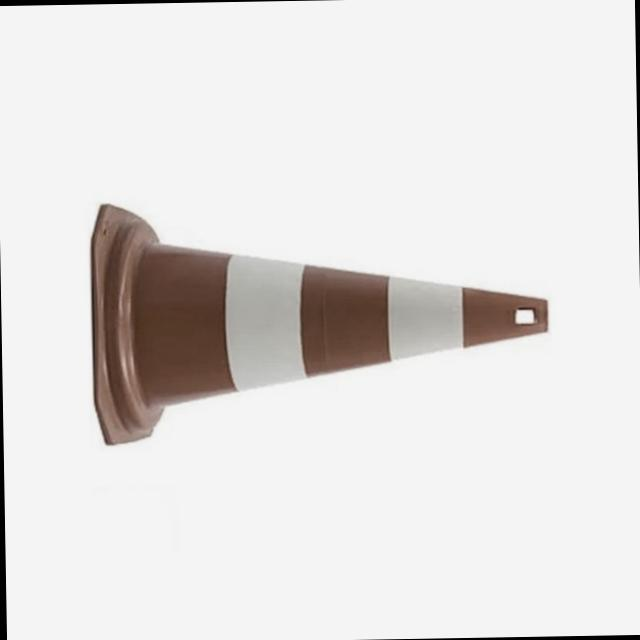cone: (93, 201, 563, 450)
